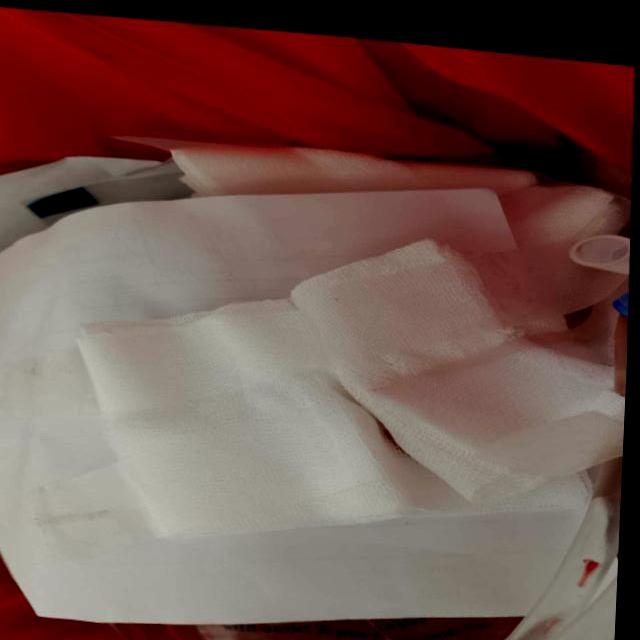Pathological: (1, 153, 626, 628)
Sharps: (24, 158, 193, 219)
